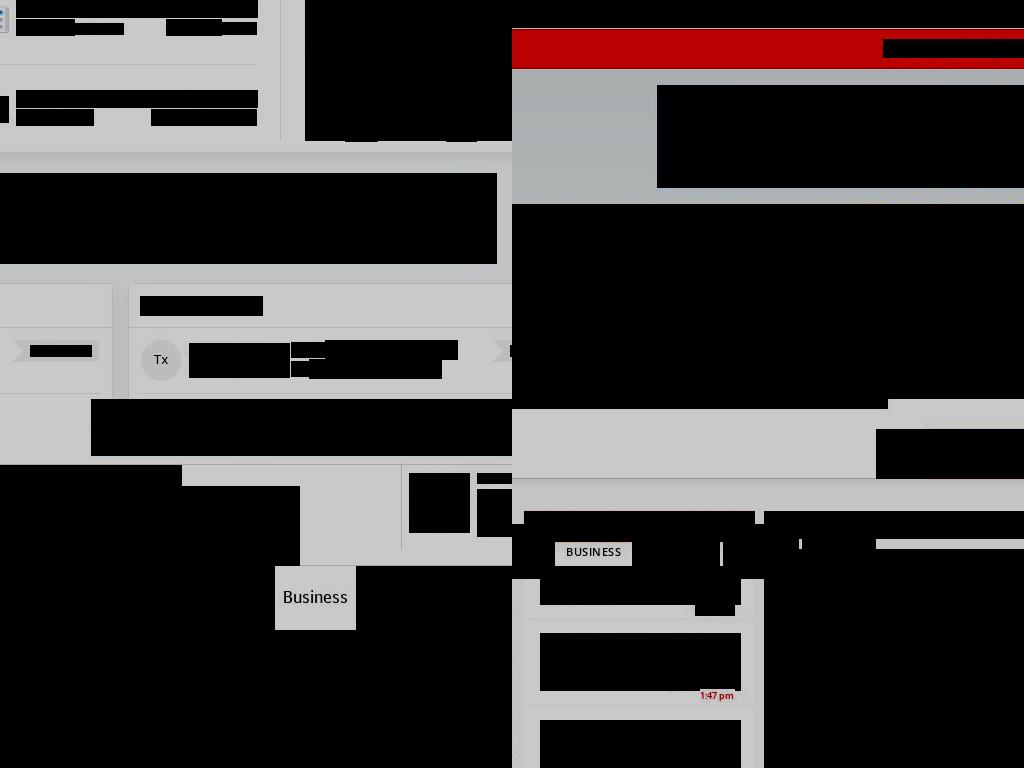button: (512, 204, 1024, 399), (0, 486, 300, 566), (540, 633, 741, 691), (540, 720, 741, 768), (540, 566, 741, 605), (0, 566, 94, 630), (275, 566, 356, 630), (926, 429, 1024, 479), (632, 524, 720, 579), (420, 566, 493, 630), (151, 566, 219, 630), (723, 524, 799, 579), (356, 566, 420, 630), (802, 524, 876, 579), (558, 524, 629, 579), (788, 579, 856, 634), (94, 566, 151, 630), (219, 566, 275, 630), (0, 656, 135, 680), (325, 340, 458, 360), (309, 359, 442, 379), (876, 429, 926, 479), (512, 524, 555, 579), (189, 343, 290, 363), (493, 566, 512, 630), (529, 0, 661, 9)
heading: (540, 633, 741, 691), (540, 720, 741, 768), (554, 233, 691, 291), (540, 566, 741, 605), (305, 0, 512, 35), (16, 0, 163, 18), (140, 296, 263, 316), (16, 90, 152, 108), (151, 90, 258, 108), (162, 0, 258, 18)
iframe: (764, 549, 1024, 768), (0, 173, 497, 264), (657, 98, 1024, 188), (91, 399, 512, 456)
image: (512, 204, 1024, 399), (0, 632, 512, 768), (305, 34, 512, 141), (0, 494, 276, 542), (524, 511, 755, 542), (409, 473, 470, 533), (529, 0, 661, 9), (893, 445, 909, 466), (0, 6, 9, 33), (0, 96, 9, 123)
link: (554, 307, 707, 374), (883, 39, 1024, 58), (16, 109, 94, 126), (16, 19, 75, 36)
text: (764, 511, 1024, 539), (657, 85, 1024, 98), (0, 465, 182, 486), (943, 429, 993, 479), (140, 340, 182, 381), (189, 362, 290, 378), (0, 590, 86, 606), (151, 109, 223, 126), (283, 590, 348, 606), (166, 19, 222, 36), (513, 310, 529, 367), (428, 590, 485, 606), (159, 590, 211, 606), (364, 590, 412, 606), (102, 590, 143, 606), (227, 590, 267, 606), (39, 345, 92, 357), (221, 109, 257, 126), (75, 23, 124, 35), (695, 602, 735, 616), (291, 342, 325, 358), (700, 689, 735, 703), (221, 22, 257, 35), (306, 39, 340, 52), (345, 129, 378, 142), (446, 129, 477, 142), (315, 115, 340, 128), (315, 90, 340, 103), (315, 64, 340, 77), (291, 361, 309, 377), (501, 590, 512, 606), (30, 345, 38, 357), (36, 345, 40, 357), (510, 345, 512, 357)
